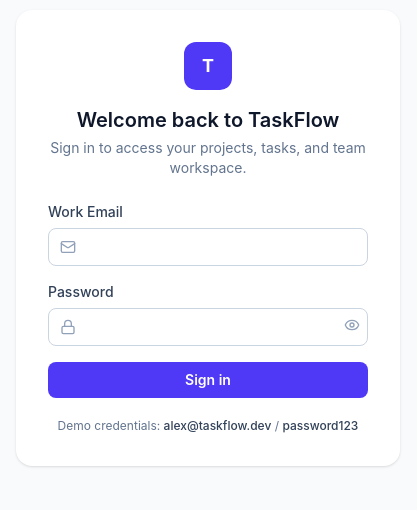
Scenario: LoginPage › shows validation errors when the form is submitted empty
Click the button "Sign in" at (208, 380), box [48,362,368,398]
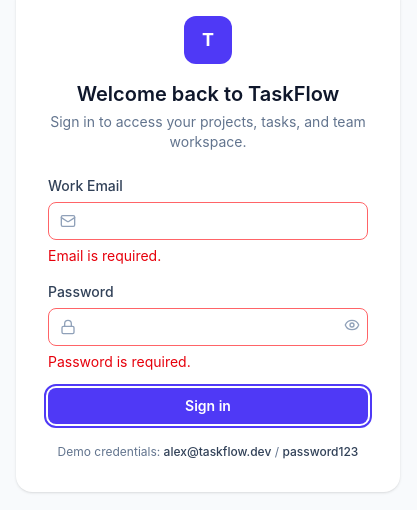
Check: the text "Email is required." is shown, box [48,247,161,264]
Check: the text "Password is required." is shown, box [48,353,191,370]
